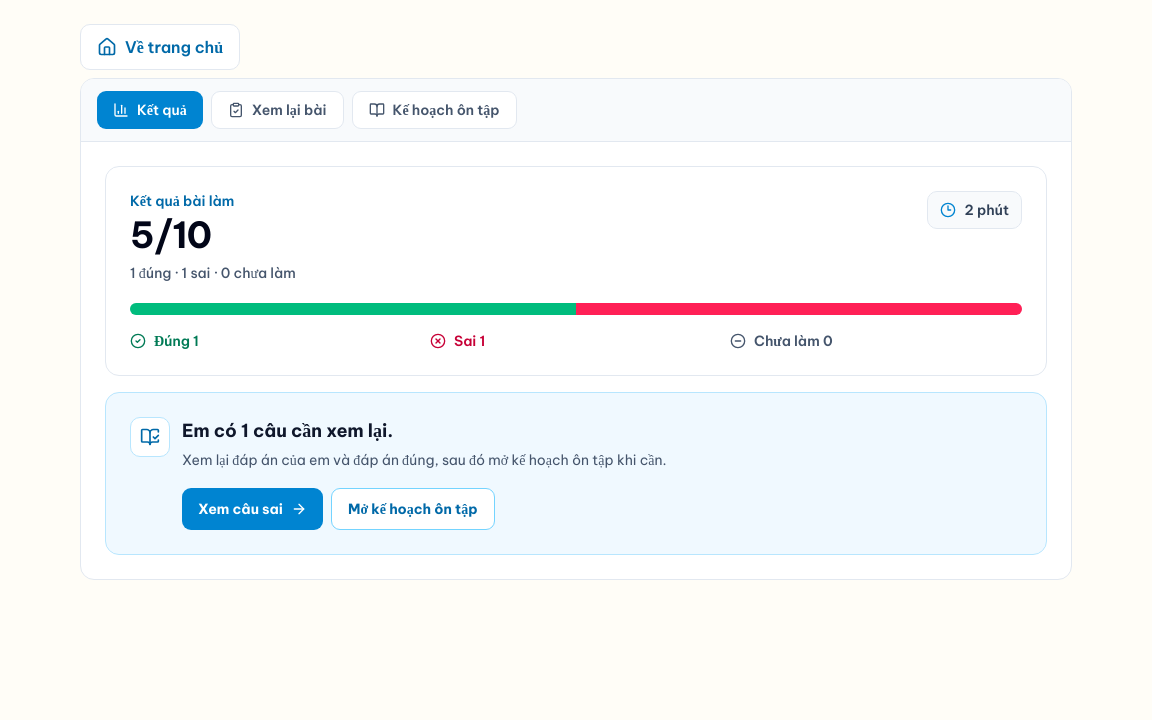
Test: student study plan › loads AI guidance only after the student opens the study-plan tab
Step 1. Click the tab "Kế hoạch ôn tập" → {"x": 434, "y": 110}, box top-left (352, 91), bottom-right (517, 129)
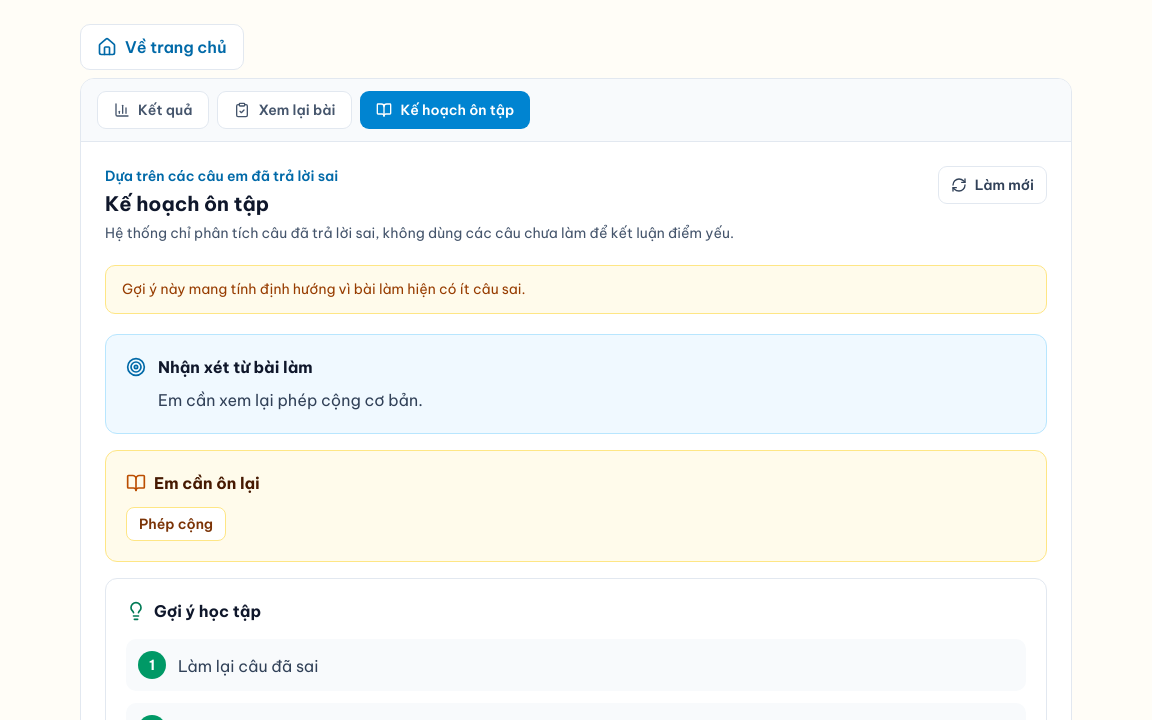
Now the text "Em cần xem lại phép cộng cơ bản." is shown, box top-left (158, 386), bottom-right (423, 412)
Now the heading "Em cần ôn lại" is shown, box top-left (154, 470), bottom-right (260, 494)
Now the heading "Gợi ý học tập" is shown, box top-left (154, 598), bottom-right (261, 622)
